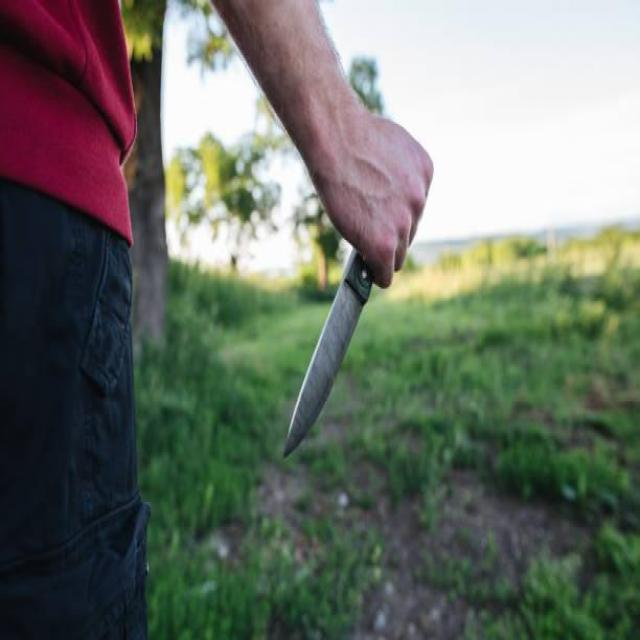faca: (268, 62, 442, 476)
